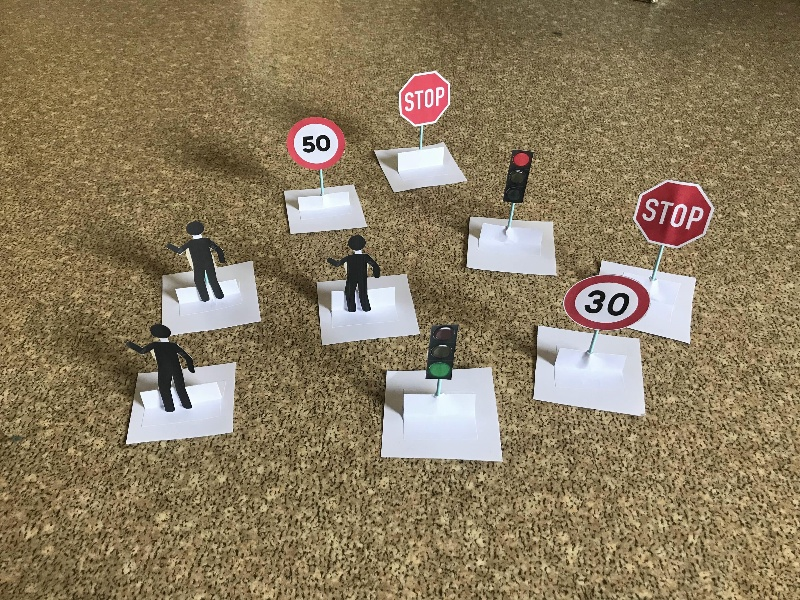green light: (424, 324, 460, 408)
person: (121, 323, 197, 420), (166, 221, 230, 306), (324, 234, 386, 317)
red light: (499, 149, 534, 235)
speed limit 30: (561, 273, 650, 385)
speed limit 50: (286, 115, 348, 208)
stop sign: (632, 178, 716, 300), (395, 70, 453, 165)
